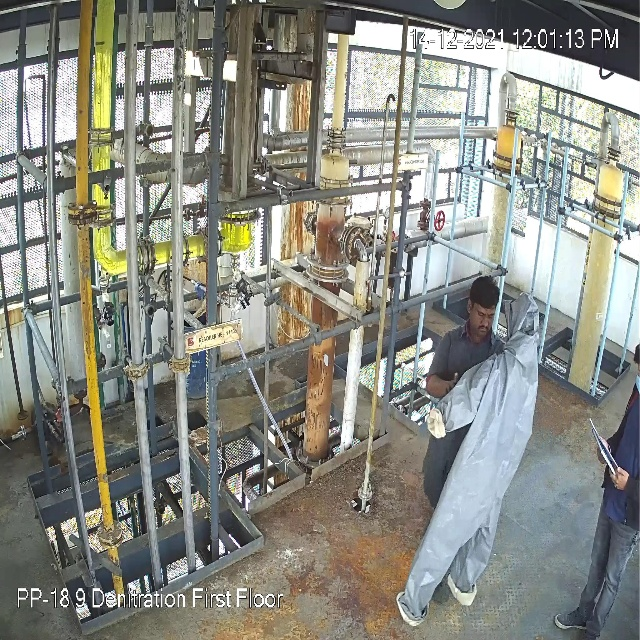Sin_gafas: (472, 307, 496, 322)
Sin_mascara: (470, 318, 493, 338)
